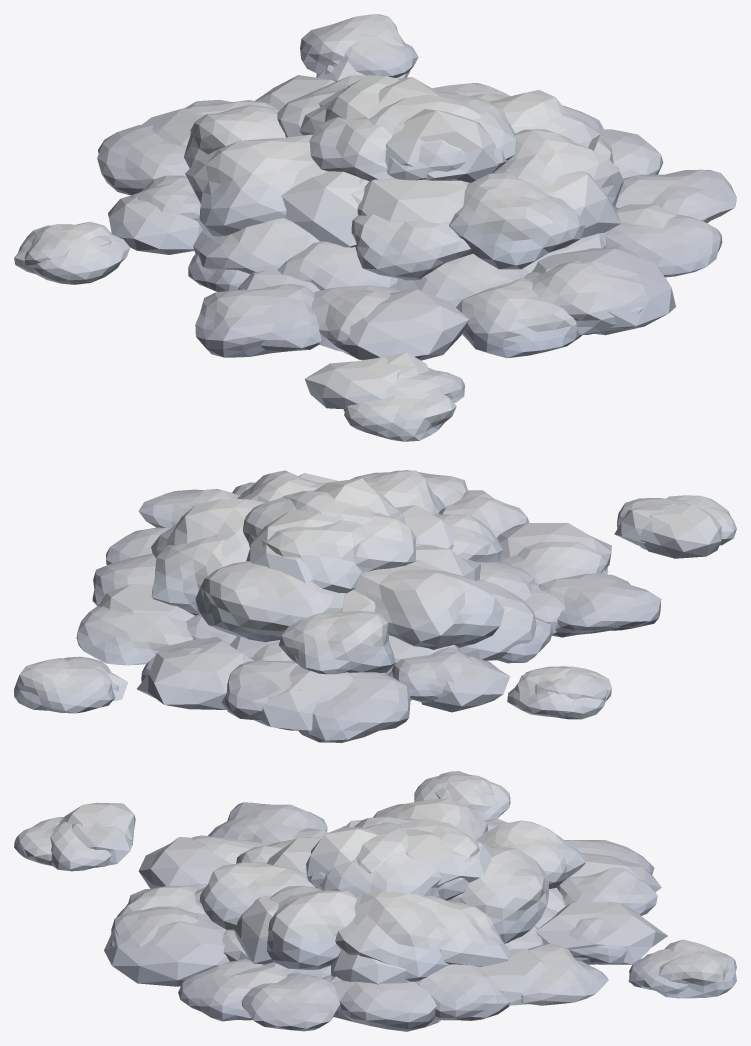
File: WorldTower_Cap.fbx
3 renders of one model, top to bottom at view 1: azimuth 30°, elevation 25°; view 2: azimuth 150°, elevation 25°; view 3: azimuth 270°, elevation 25°, orthographic. The views are drawn at different scales.
Parts seen in each view (by area): view 1: Clouds_Near, Clouds_Far; view 2: Clouds_Near, Clouds_Far; view 3: Clouds_Near, Clouds_Far.
Boxes of the visible parts, x1=… form: Clouds_Near: x1=14, y1=14, x2=736, y2=441; Clouds_Far: x1=108, y1=61, x2=683, y2=409; Clouds_Near: x1=14, y1=470, x2=736, y2=742; Clouds_Far: x1=99, y1=470, x2=721, y2=730; Clouds_Near: x1=14, y1=771, x2=736, y2=1031; Clouds_Far: x1=59, y1=802, x2=667, y2=1015.
Bounding box in the file's own units: 492 × 133 × 595.
